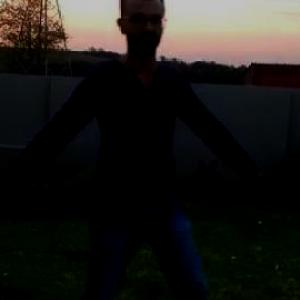land: (83, 50, 207, 231)
